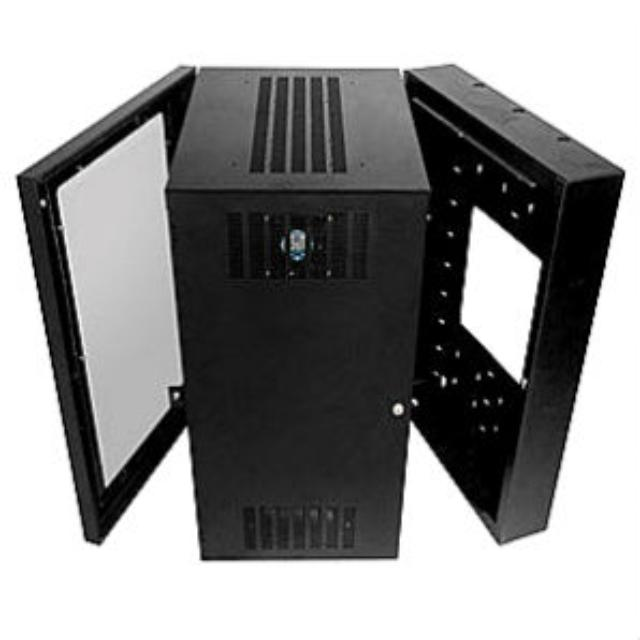Server: (11, 59, 626, 567)
